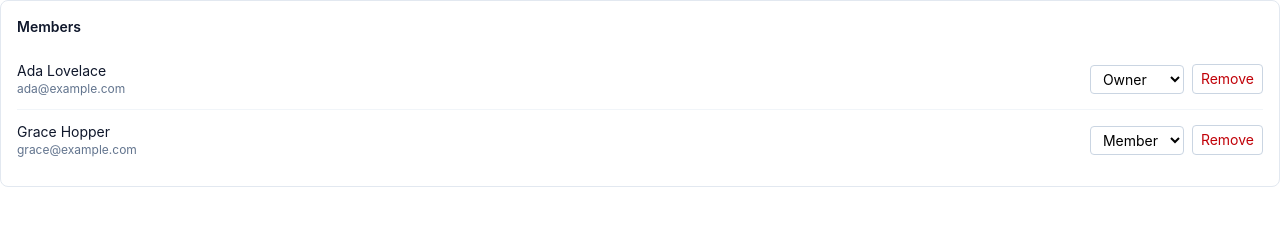
Test: MembersPanel › keeps a refusal on the row that caused it
Click the button with test id "member-remove-1".
click(1227, 79)  # box [1192,64,1263,94]
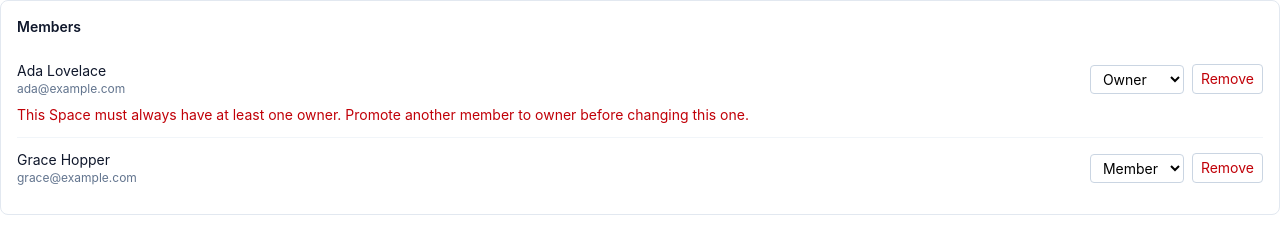
Expected: the message with test id "member-error-1" is shown, [17,106,749,123]
